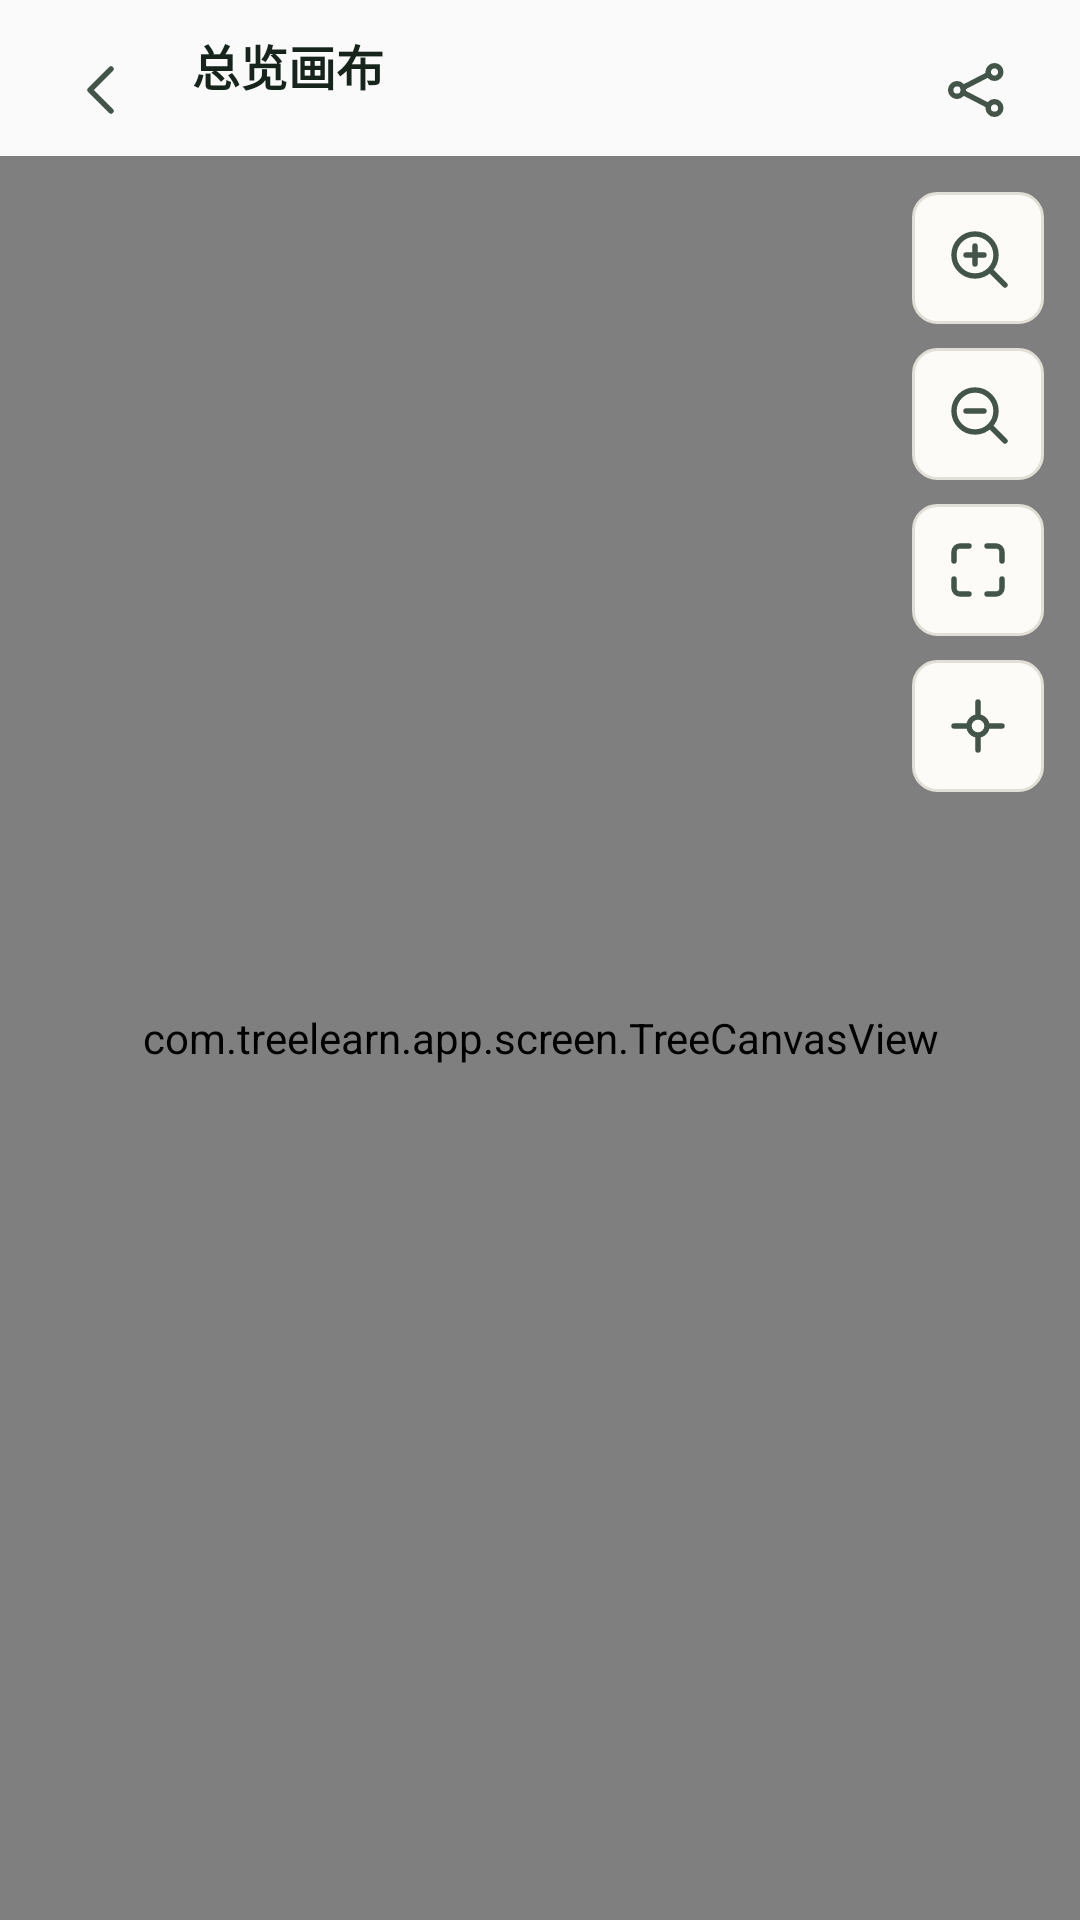

Named icons in this screenshot (1080px x 1920px) and their bounding boxes, bbox(x1, y1, x2, y2):
回到当前分支: bbox(912, 660, 1044, 792)
放大画布: bbox(912, 192, 1044, 324)
缩小画布: bbox(912, 348, 1044, 480)
缩放画布以适应屏幕: bbox(912, 504, 1044, 636)
返回主题: bbox(87, 66, 114, 114)
